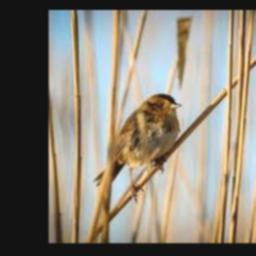Sparrow: (93, 93, 182, 201)
